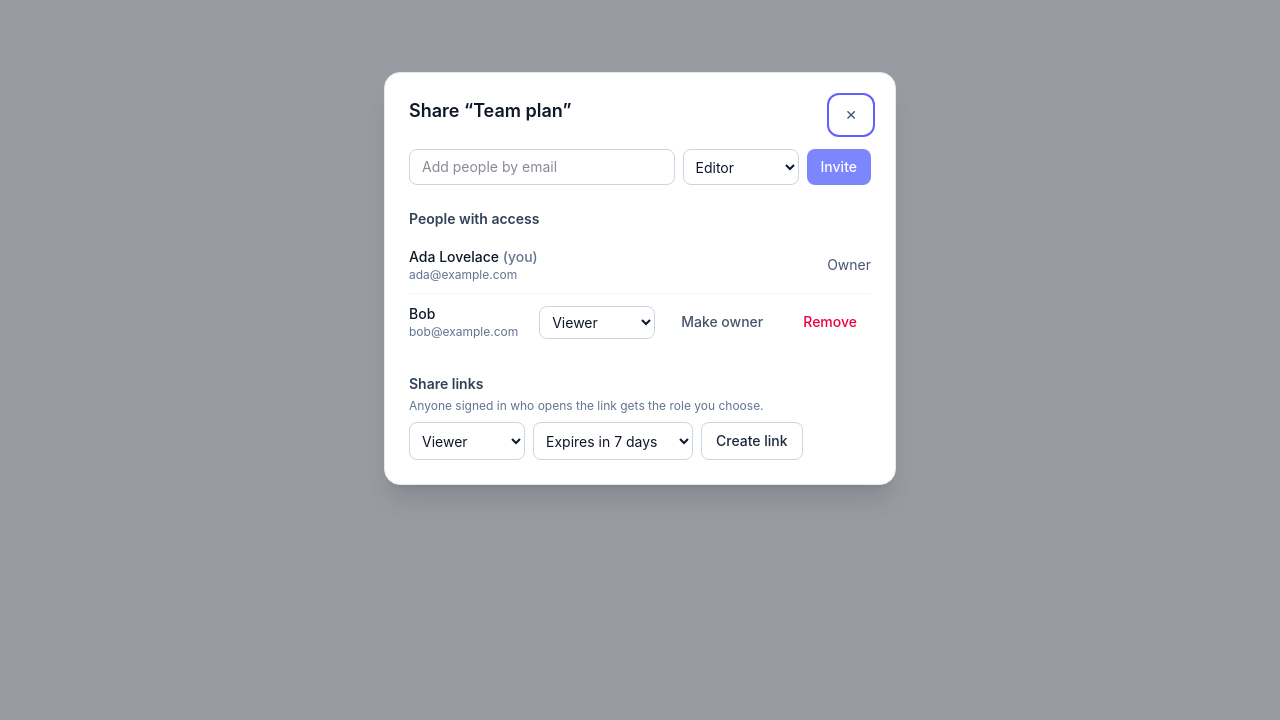
Scenario: ShareDialog › lets the owner change roles and remove people
The width and height of the screenshot is (1280, 720).
Select "Editor" in the dropdown named "Role for Bob". click: coordinates (597, 322)
box: [539,306,655,338]
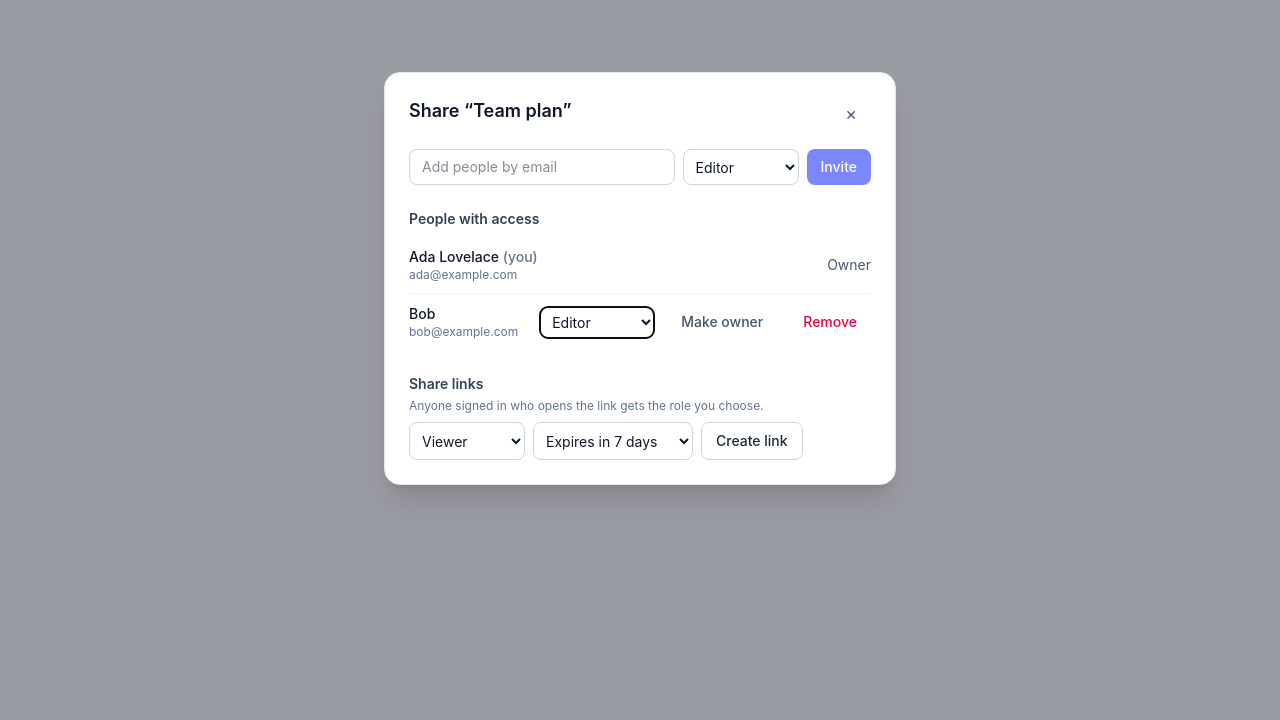
Click the button with aria-label "Remove Bob". click: coordinates (830, 322)
box: [789,304,871,340]
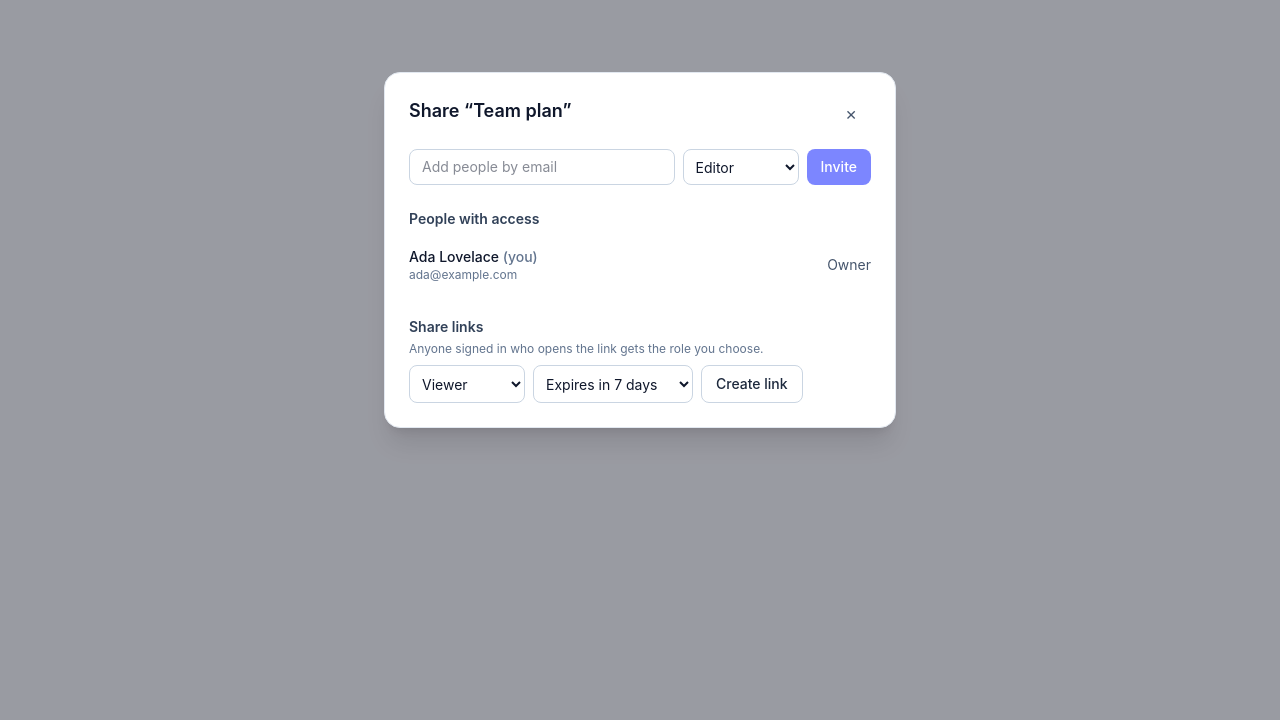
Check: the text "bob@example.com" is gone
